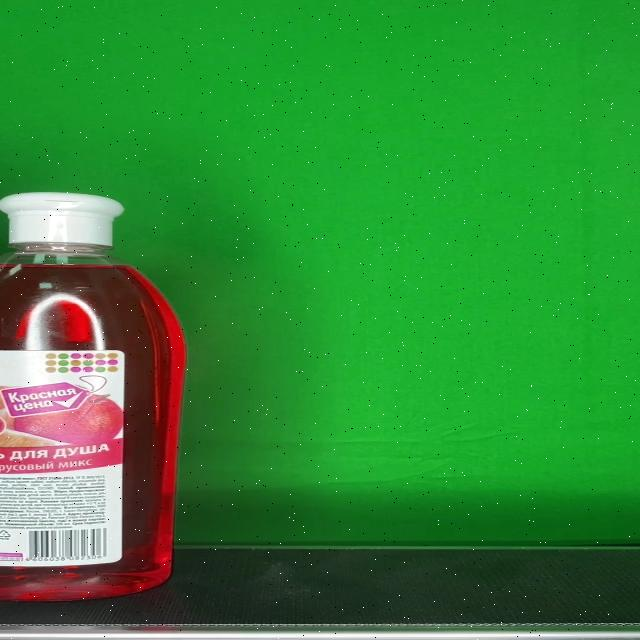Bottle: (0, 192, 188, 600)
Cap: (0, 193, 124, 245)
